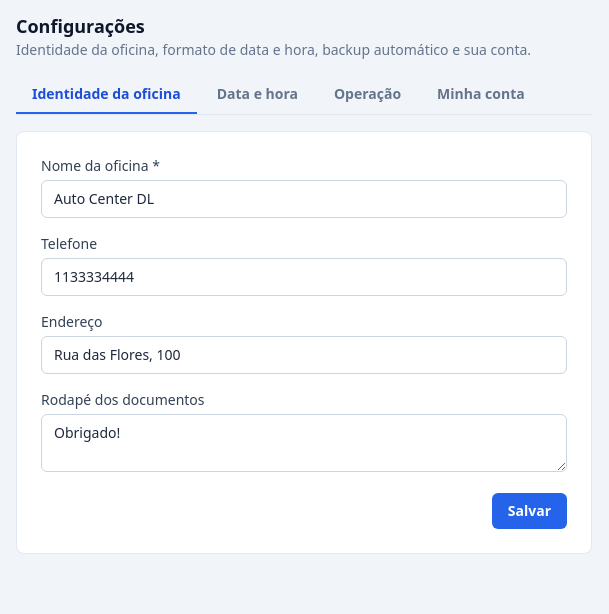
Test: SettingsPage tabs (2026-09-18) › loads the example catalog from the operations tab
Click the tab "Operação". click: (368, 95)
box: [318,76,417,114]
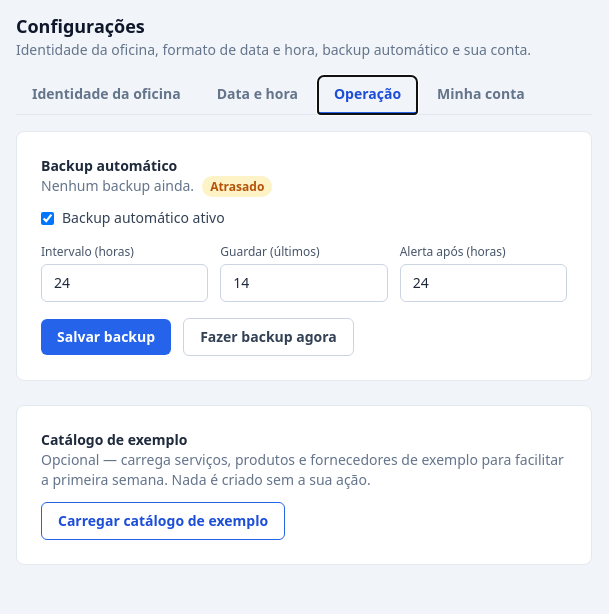
Click the button "Carregar catálogo de exemplo". click: (163, 521)
box: [41,502,285,540]
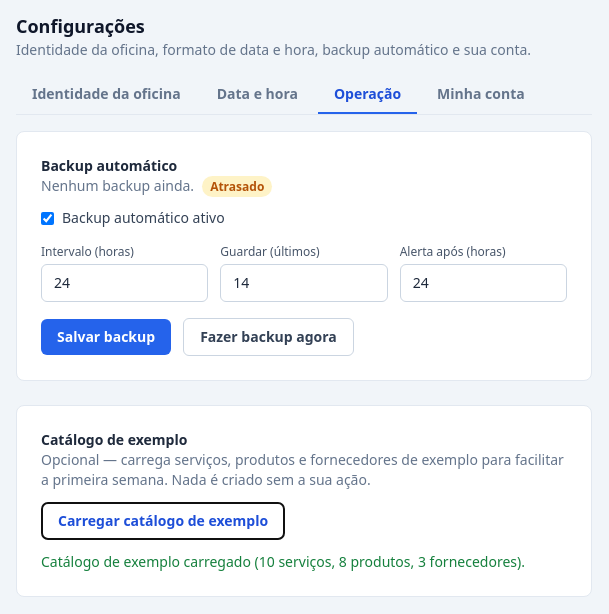
Now the text "Catálogo de exemplo carregado (10 serviços, 8 produtos, 3 fornecedores)." is shown, box [41,552,567,572]
